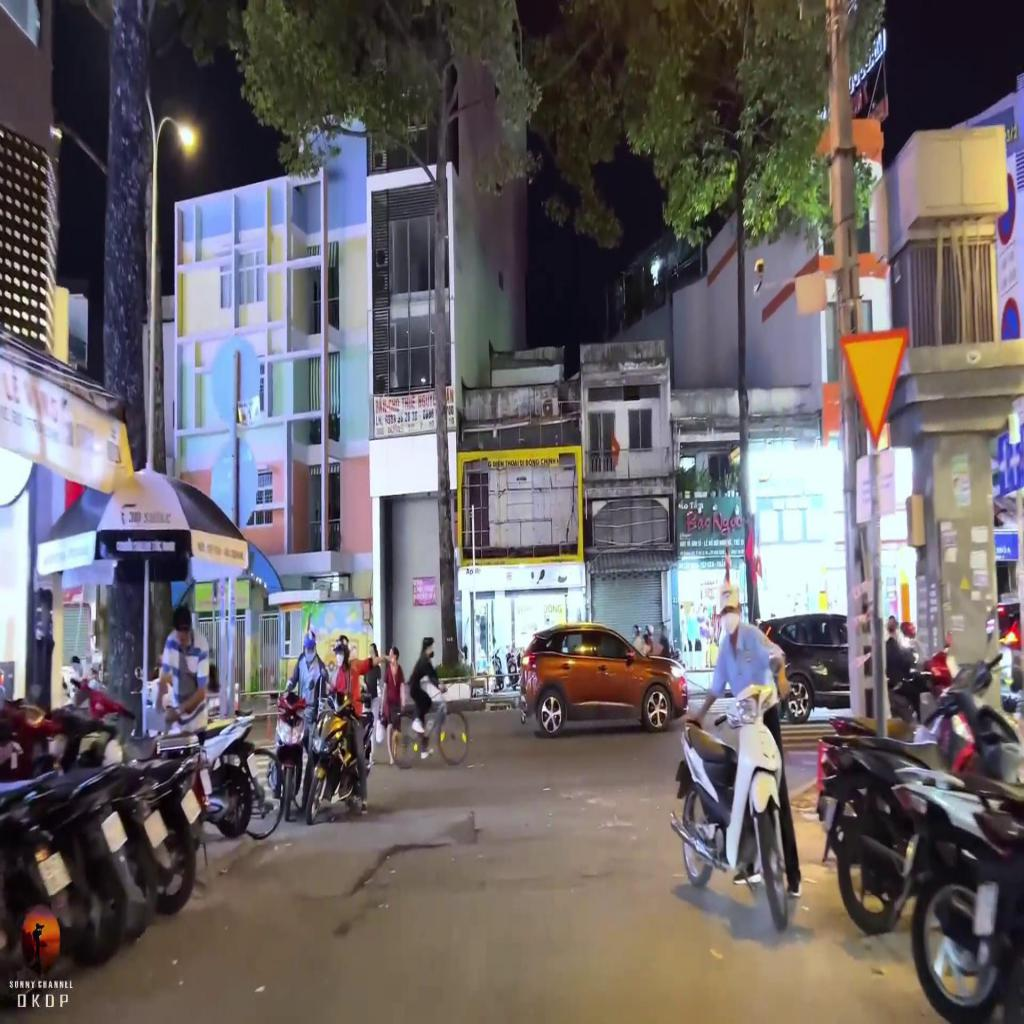giao_nhau_voi_duong_uu_tien: (838, 330, 910, 450)
